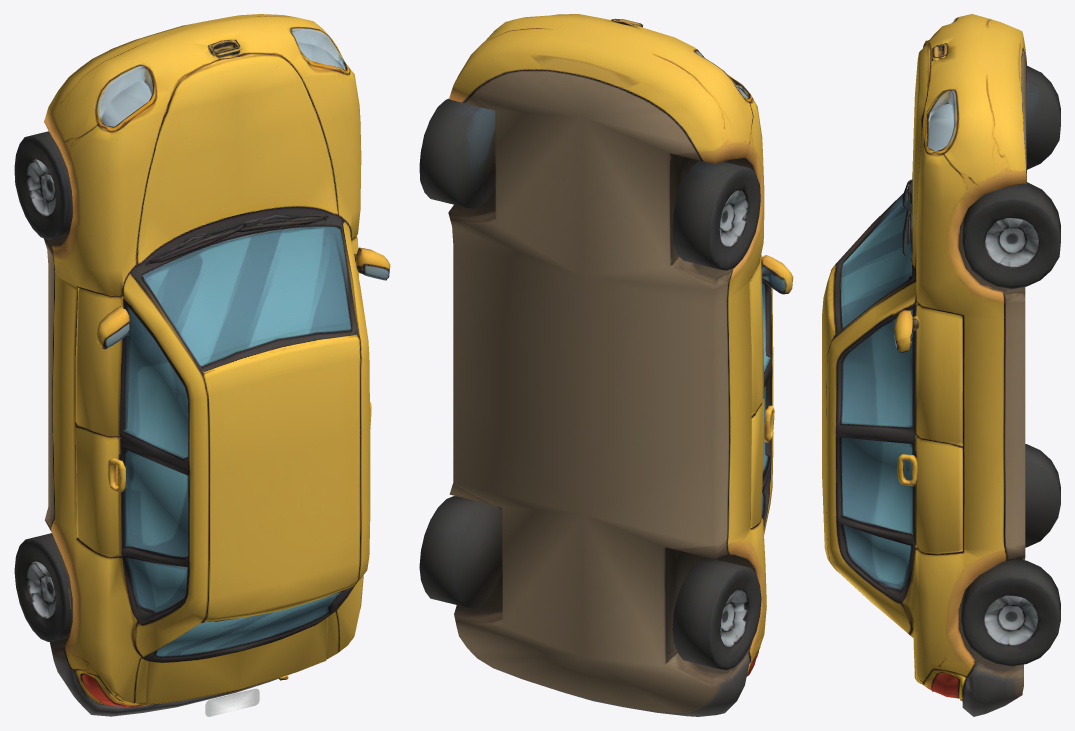
The model's file is selected.fbx.
3 views of the same model, side by side, from view 1: azimuth 30°, elevation 25°; view 2: azimuth 150°, elevation 25°; view 3: azimuth 270°, elevation 25° (orthographic). The views are drawn at different scales.
Parts seen in each view (by area): view 1: tripo_node_dd03ab2e-15d7-42f3-84e3-2501dbda8133; view 2: tripo_node_dd03ab2e-15d7-42f3-84e3-2501dbda8133; view 3: tripo_node_dd03ab2e-15d7-42f3-84e3-2501dbda8133.
Boxes of the visible parts, x1,y1,x2,y2 form: tripo_node_dd03ab2e-15d7-42f3-84e3-2501dbda8133: (14, 14, 390, 716); tripo_node_dd03ab2e-15d7-42f3-84e3-2501dbda8133: (419, 14, 793, 716); tripo_node_dd03ab2e-15d7-42f3-84e3-2501dbda8133: (822, 14, 1060, 716).
Size of the model in its own units: 45.51 by 99.8 by 34.18.
1 material, 1 textured.
